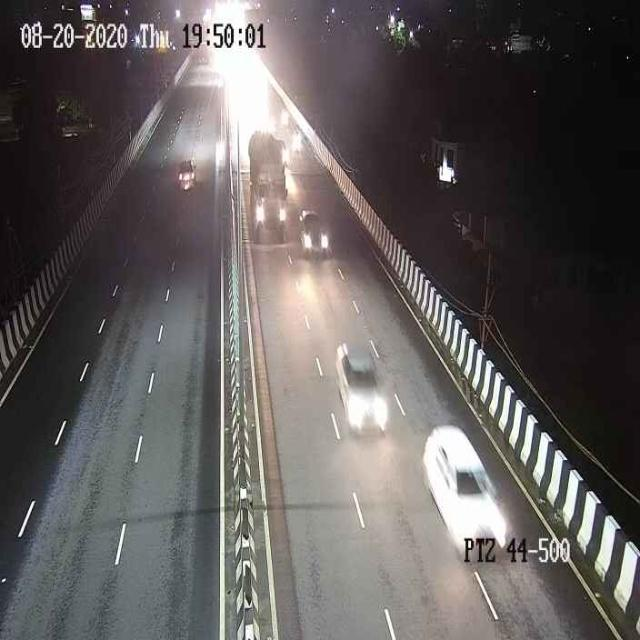car: (423, 426, 502, 552), (335, 343, 388, 433), (294, 205, 333, 263), (172, 156, 199, 195)
